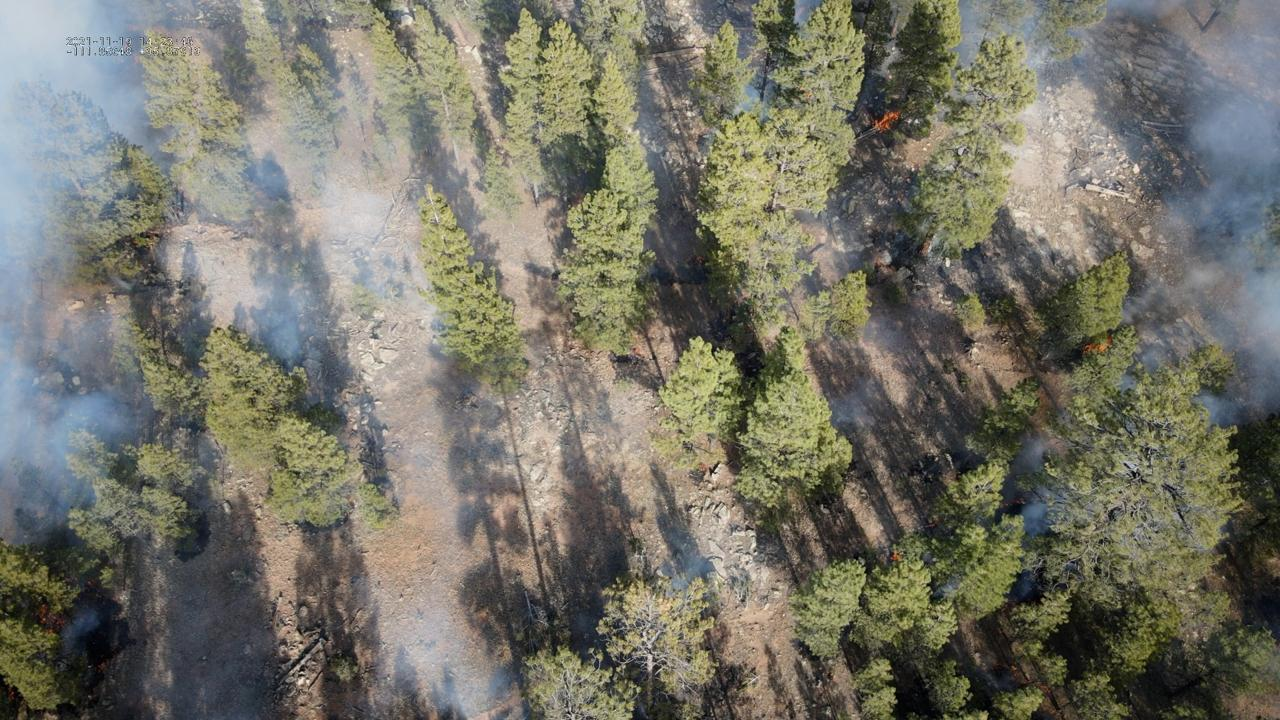fire: (28, 600, 61, 631), (1081, 333, 1114, 355), (871, 109, 900, 133), (697, 462, 708, 472), (892, 550, 900, 562), (1011, 666, 1017, 671)
smoke: (0, 0, 449, 650), (994, 0, 1280, 609), (383, 634, 507, 720), (933, 0, 992, 102), (726, 52, 777, 128), (820, 378, 875, 436), (661, 551, 714, 600), (788, 0, 828, 29), (928, 577, 960, 606), (986, 671, 1018, 692)
